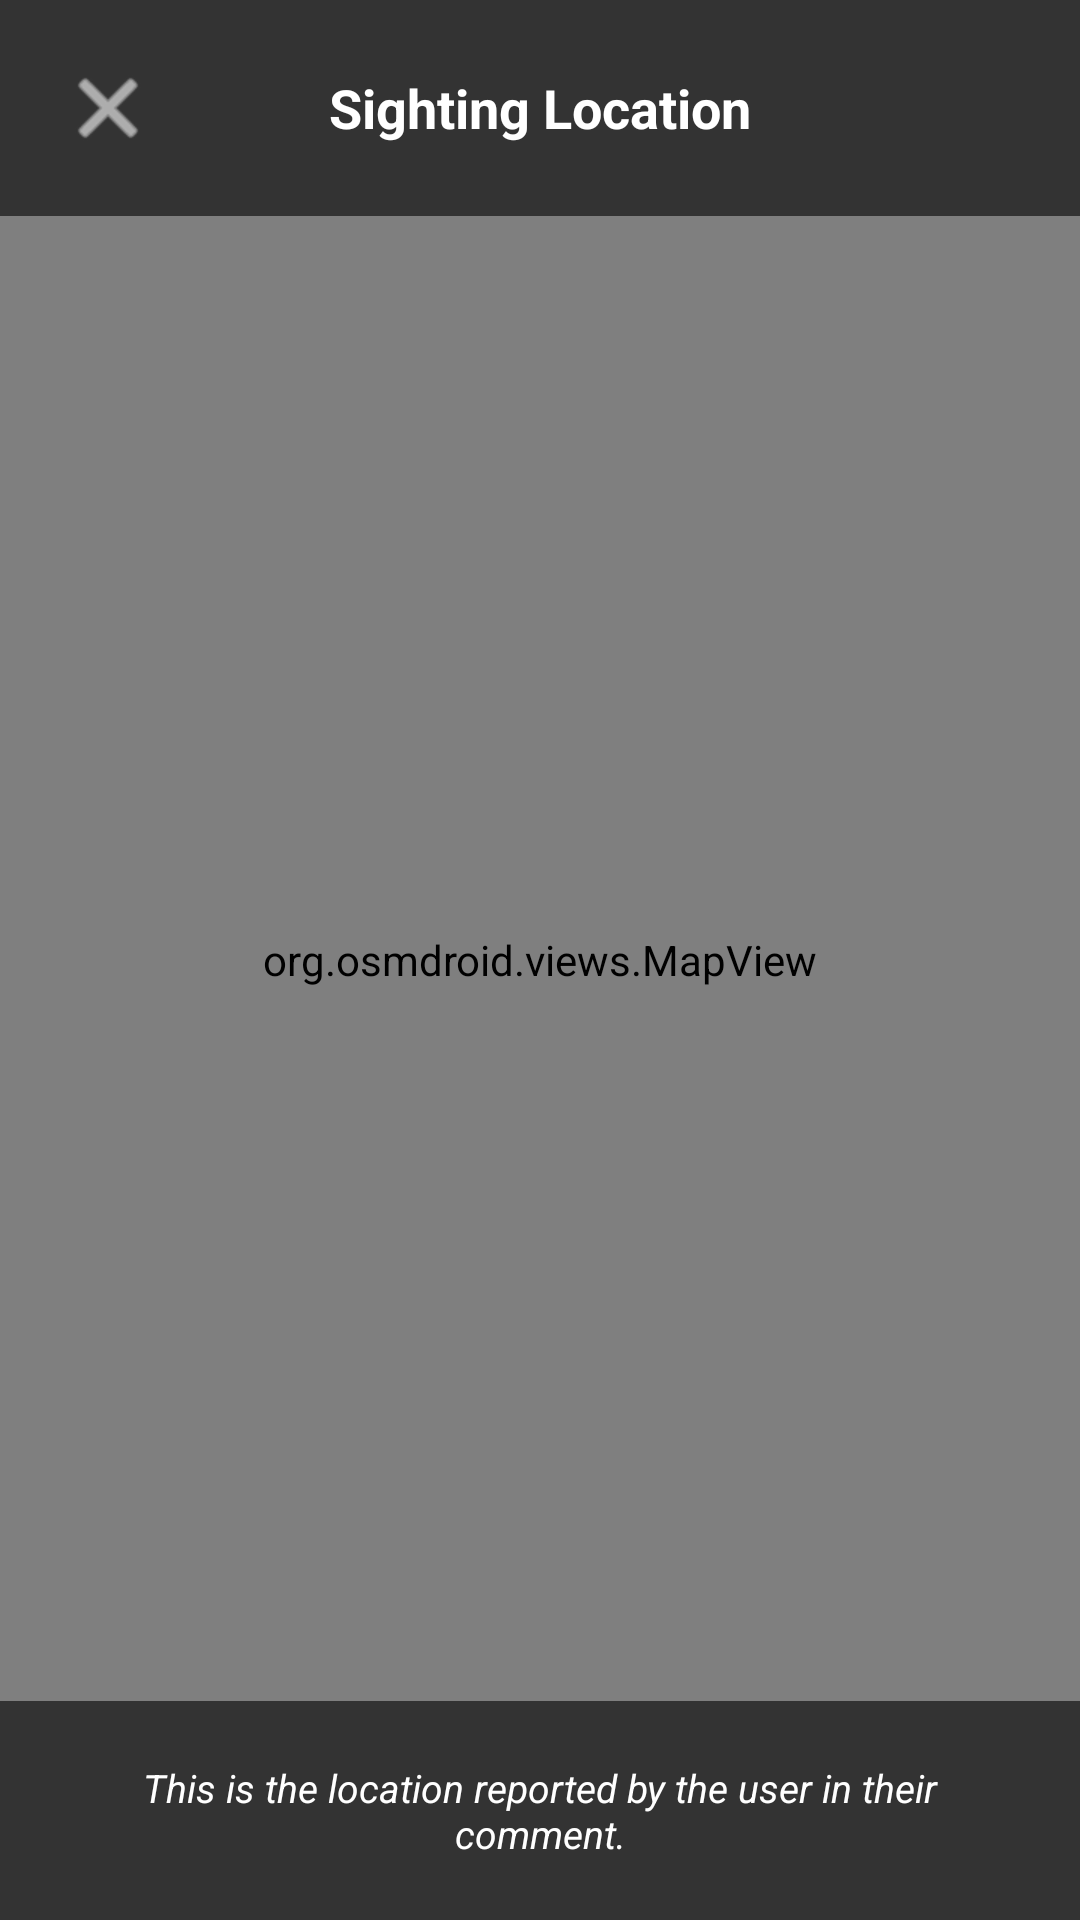

Icon click points for this 1080 × 1920 phone screenshot, format (x=x, y=y):
close clear cancel: (x=108, y=108)
